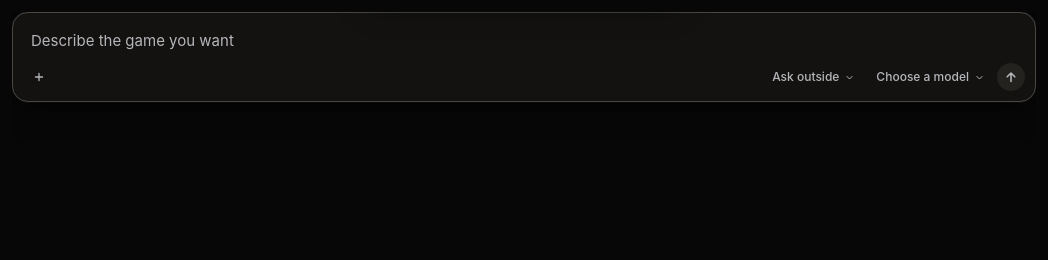
Test: skip is confirmed once per project › does not ask again in a project that has already been told
Click the button with aria-label "Permissions" at (813,77), box [763,63,863,91]
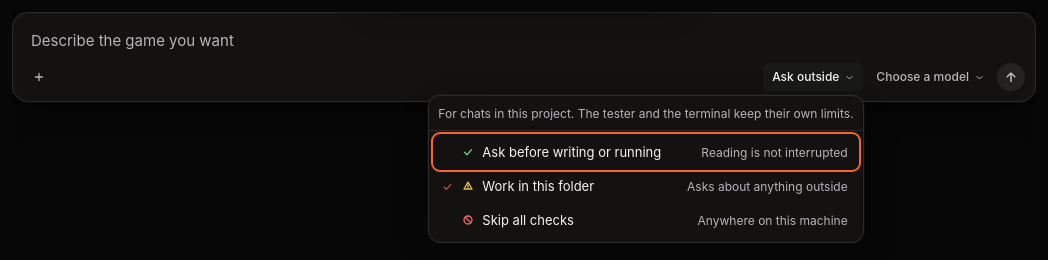
Click the menu item "Skip all checks Anywhere on this machine" at (528,220), box [434,203,858,237]
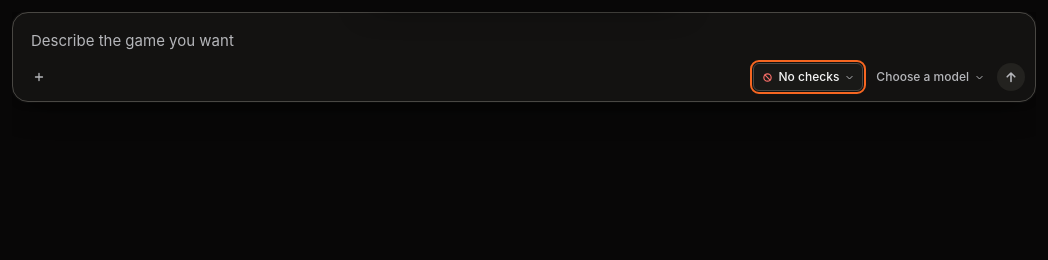
Now the menu item "Skip all checks?" is gone
